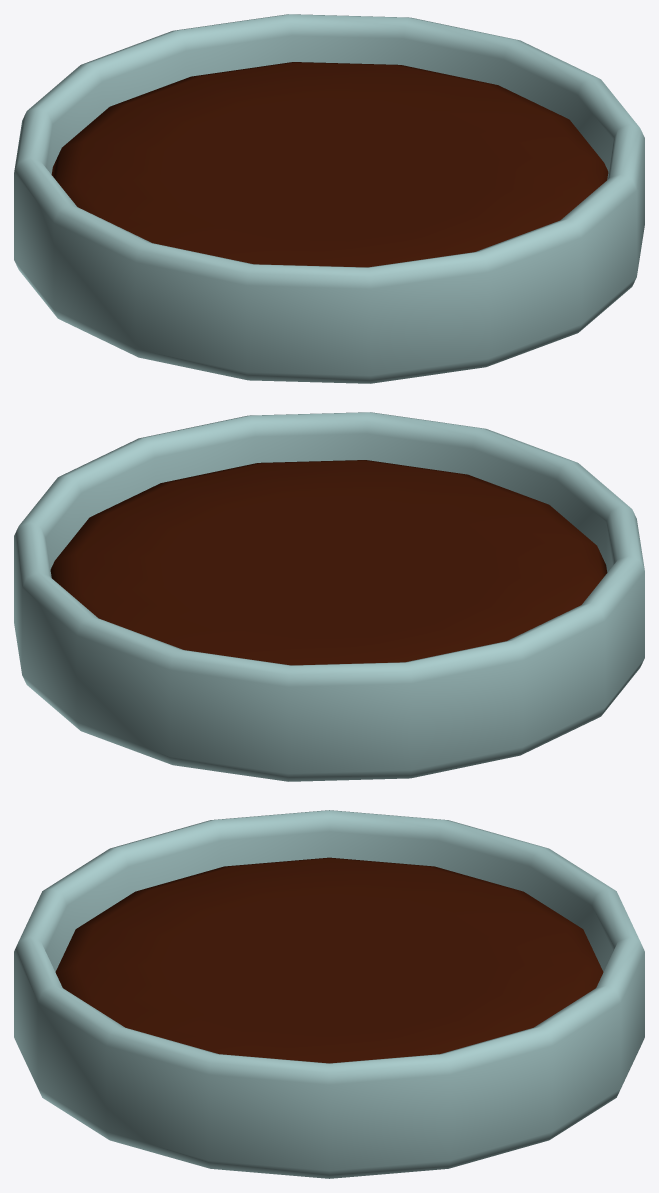
Rendered from LastLuna_Model_Station_Farm.fbx.
3 renders of one model, top to bottom at view 1: azimuth 30°, elevation 25°; view 2: azimuth 150°, elevation 25°; view 3: azimuth 270°, elevation 25°, orthographic.
Visible parts, largest first — view 1: Petri_Dish001, Petri_Dish_Medium001; view 2: Petri_Dish001, Petri_Dish_Medium001; view 3: Petri_Dish001, Petri_Dish_Medium001.
Part boxes in pixels (x1,y1,x2,y2): Petri_Dish001: (14, 14, 644, 383); Petri_Dish_Medium001: (51, 62, 608, 267); Petri_Dish001: (14, 412, 644, 781); Petri_Dish_Medium001: (50, 460, 607, 665); Petri_Dish001: (14, 810, 644, 1178); Petri_Dish_Medium001: (55, 857, 603, 1063).
Bounding box in the file's own units: 39.37 × 7.87 × 39.37.
